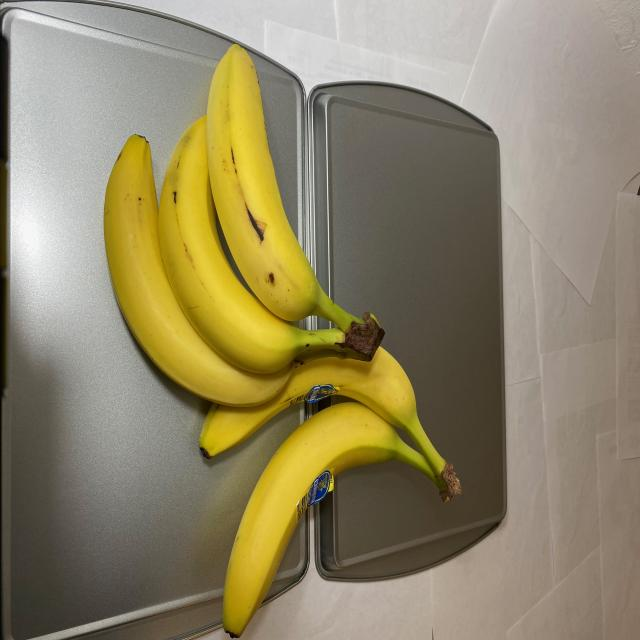banana: (101, 44, 463, 635)
